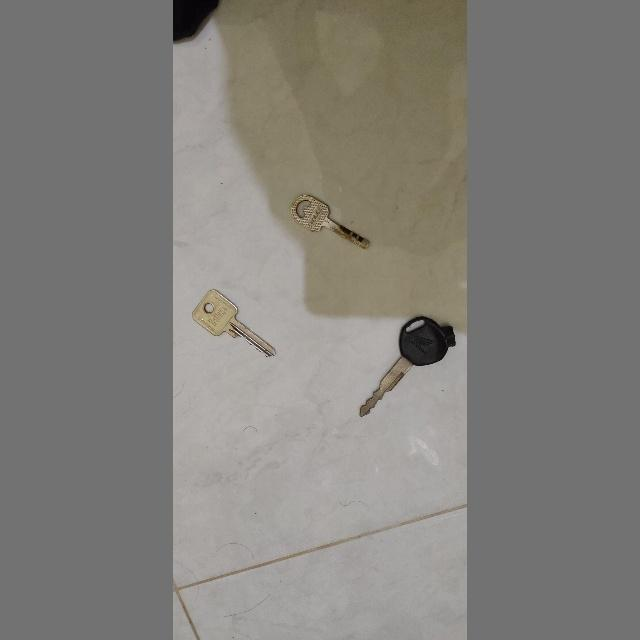Keys: (348, 305, 464, 423), (182, 276, 288, 372), (286, 185, 374, 262)
